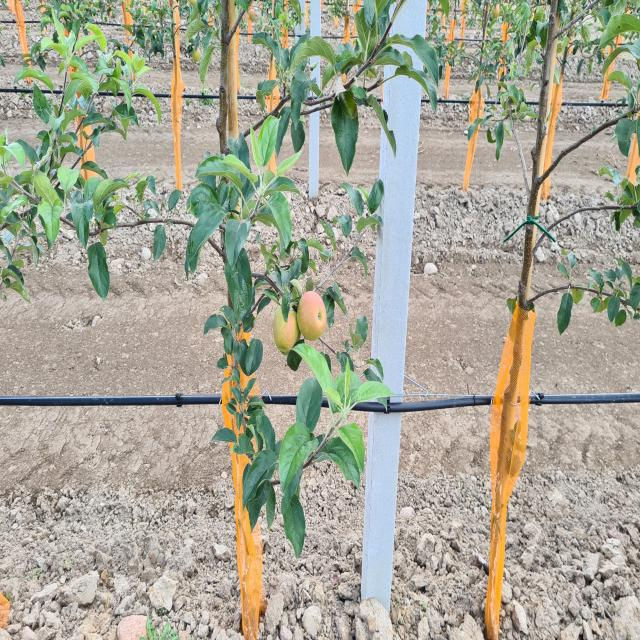Apple: (298, 291, 326, 340), (272, 307, 299, 356)
